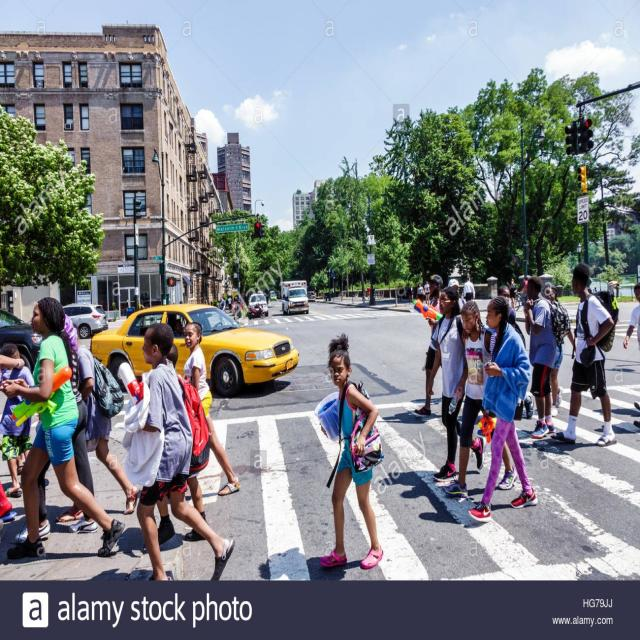body: (1, 294, 127, 562), (122, 322, 236, 582), (11, 312, 99, 546), (466, 293, 545, 524), (53, 318, 141, 524), (106, 266, 411, 324), (313, 330, 386, 570), (440, 298, 520, 498), (549, 260, 618, 448), (426, 285, 488, 484), (155, 342, 212, 546), (181, 320, 242, 497), (0, 340, 39, 500), (523, 274, 557, 440), (411, 272, 448, 418), (548, 283, 578, 418), (623, 282, 640, 350), (497, 284, 516, 330), (447, 278, 468, 316), (0, 342, 26, 372), (16, 434, 35, 474), (0, 484, 18, 526), (586, 279, 620, 297), (508, 278, 518, 314), (463, 275, 476, 302), (518, 275, 529, 295), (423, 279, 431, 305), (407, 283, 415, 305), (396, 281, 404, 303), (632, 415, 640, 432), (416, 282, 424, 294), (366, 285, 370, 300)
